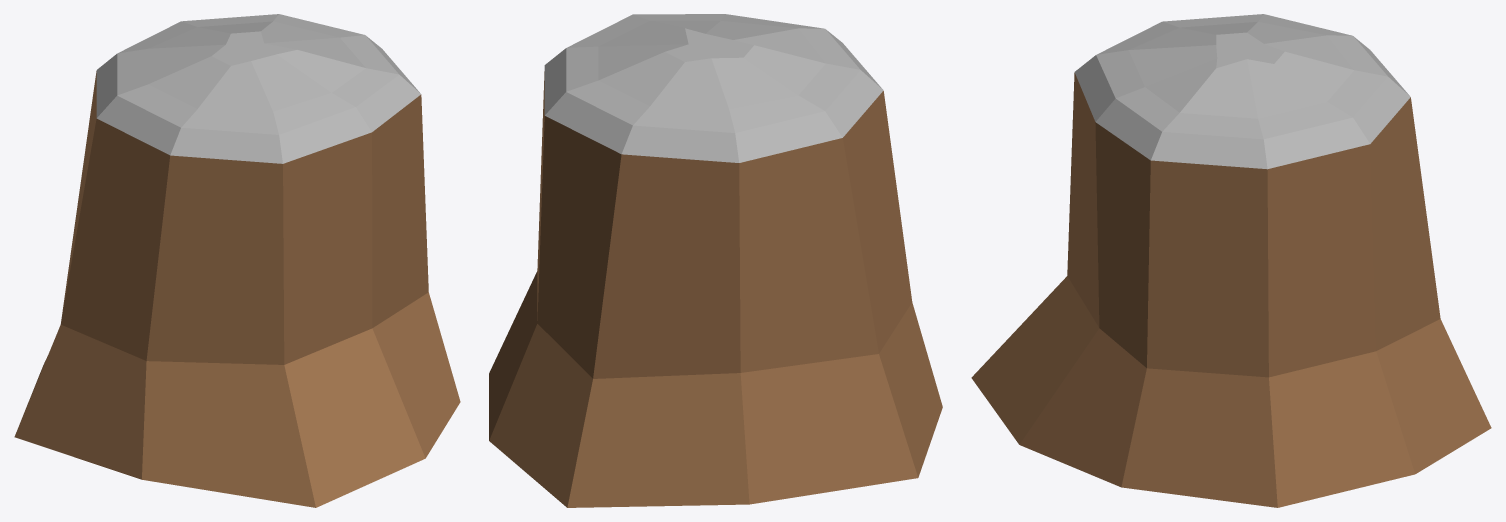
File: Treestumb_1 Winter.fbx
3 renders of one model, left to right at view 1: azimuth 30°, elevation 25°; view 2: azimuth 150°, elevation 25°; view 3: azimuth 270°, elevation 25°, orthographic. The views are drawn at different scales.
Parts seen in each view (by area): view 1: Cylinder.043; view 2: Cylinder.043; view 3: Cylinder.043.
Boxes of the visible parts, x1,y1,x2,y2 form: Cylinder.043: (14,14,460,507); Cylinder.043: (489,14,942,507); Cylinder.043: (971,14,1491,507).
Bounding box in the file's own units: 61.89 × 51.37 × 65.47.
